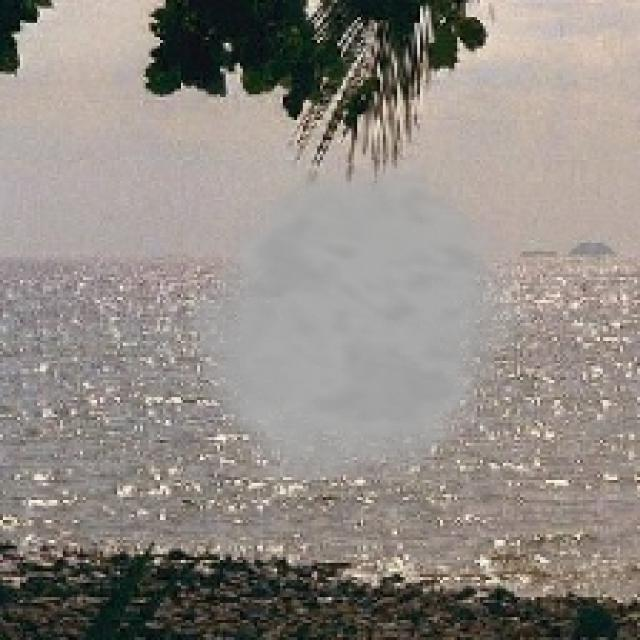smoke: (174, 154, 540, 500)
